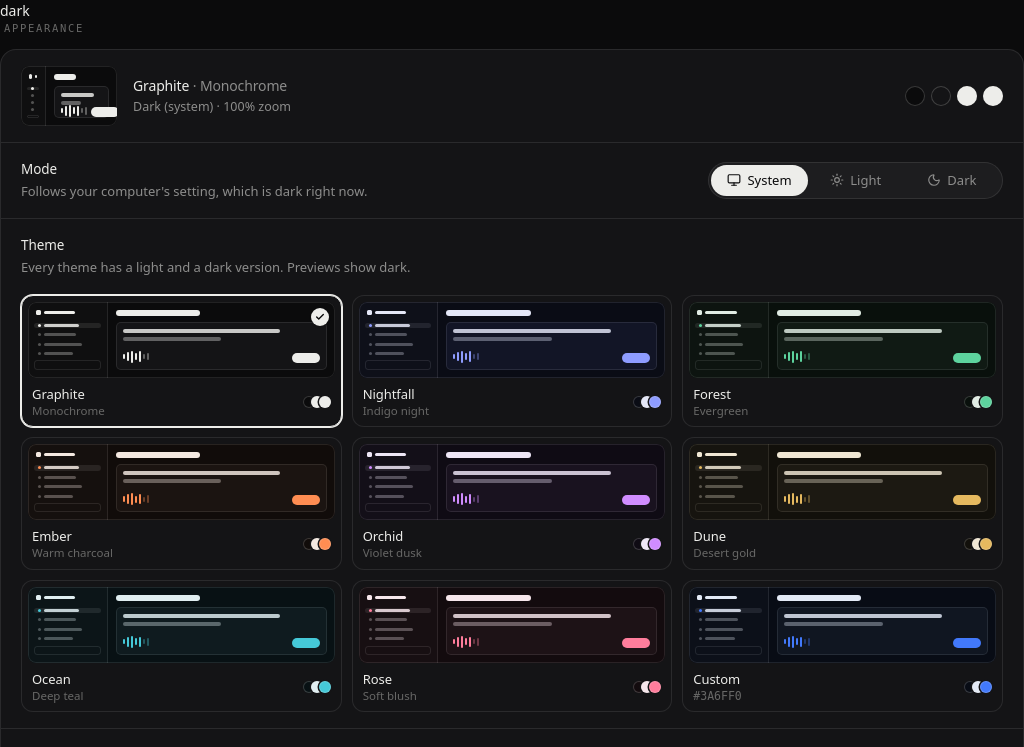
Test: Appearance picker › selects a mode on click and applies it to <html>
The width and height of the screenshot is (1024, 747).
Click the radio button labelled "Light": (856, 180) [808,165,904,196]
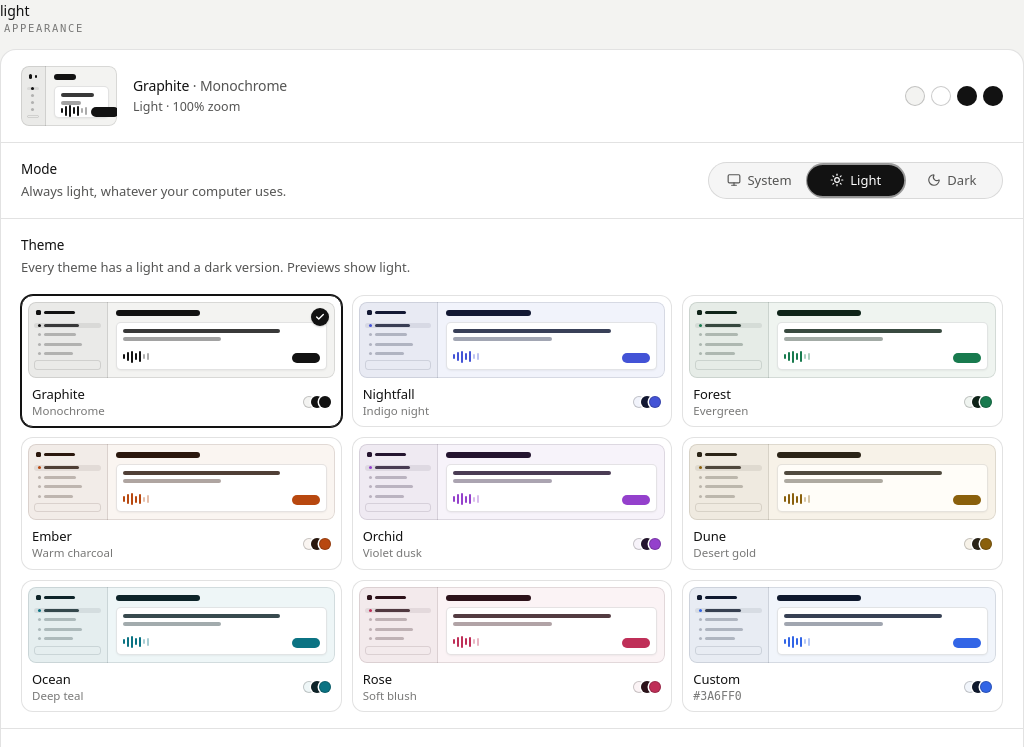
Check: the text "light" is shown, box [0,1,30,20]
Check: the text with test id "resolved" reads "light", box [0,1,30,20]
Check: the text "Previews show light" is shown, box [21,258,410,276]
